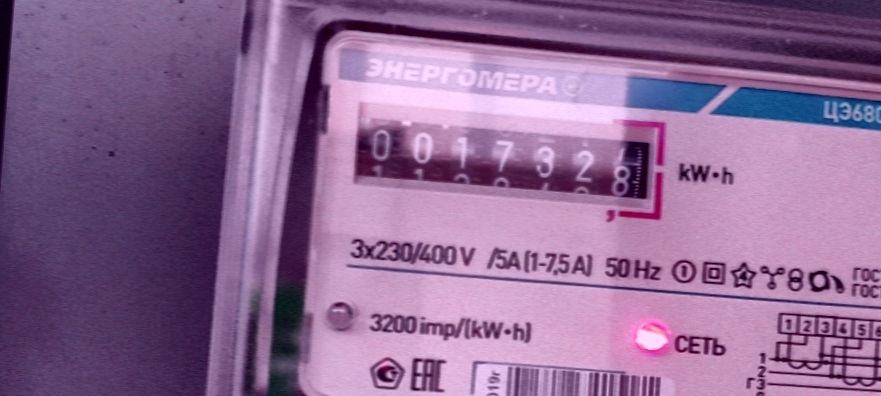0: (370, 124, 395, 163), (412, 129, 434, 164)
1: (454, 132, 472, 169)
2: (572, 147, 596, 184)
3: (533, 143, 558, 179)
7: (490, 135, 517, 174)
8: (609, 161, 632, 197)
screen: (343, 98, 672, 222)
